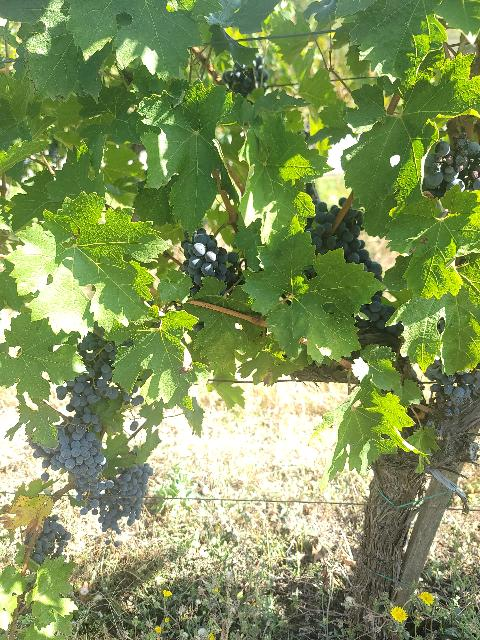grapes: (31, 412, 106, 498), (305, 198, 382, 281), (181, 228, 239, 295), (114, 464, 154, 526), (30, 515, 71, 564), (99, 480, 121, 531)
